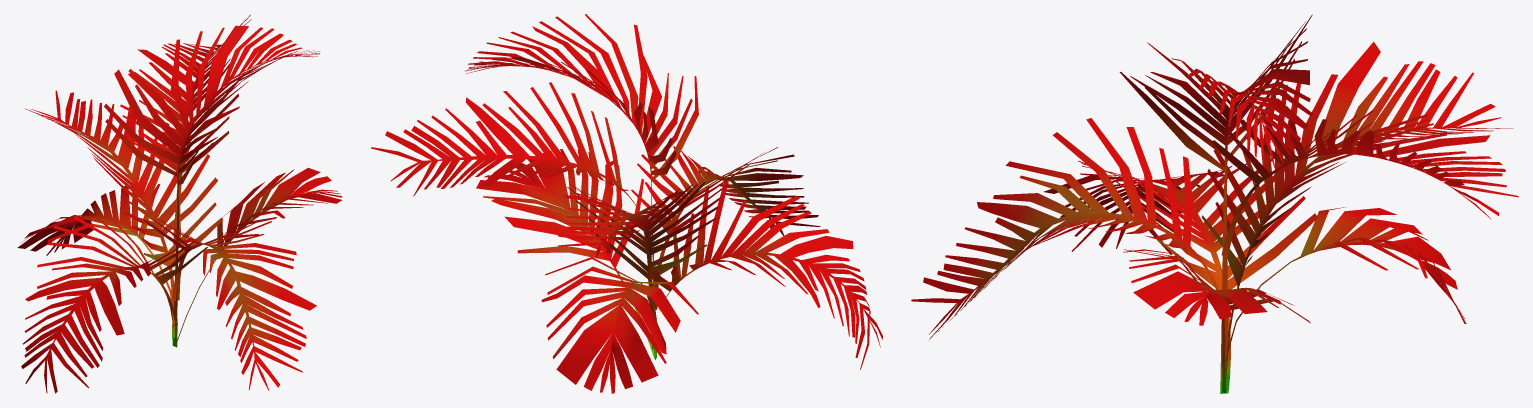
File: Areca Palm_LOD1_Var1_shFjC.fbx
The picture shows the model from 3 angles, left to right: view 1: azimuth 30°, elevation 25°; view 2: azimuth 150°, elevation 25°; view 3: azimuth 270°, elevation 25°; orthographic projection. The views are drawn at different scales.
Parts seen in each view (by area): view 1: _1893_Var1_LOD1; view 2: _1893_Var1_LOD1; view 3: _1893_Var1_LOD1.
Boxes of the visible parts, x1,y1,x2,y2 form: _1893_Var1_LOD1: [17, 14, 342, 393]; _1893_Var1_LOD1: [371, 14, 882, 393]; _1893_Var1_LOD1: [911, 14, 1518, 393].
Size of the model in its own units: 178 by 142 by 199.
